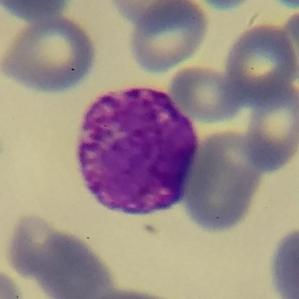Basophil: (66, 74, 206, 226)
RBC: (179, 130, 266, 234), (0, 12, 100, 94), (25, 226, 116, 299), (221, 22, 299, 103), (127, 0, 213, 73), (1, 210, 74, 292), (238, 76, 298, 174), (166, 62, 243, 124), (265, 224, 298, 299), (106, 0, 188, 28), (276, 6, 299, 91), (0, 0, 75, 21), (79, 286, 184, 299), (0, 266, 26, 299), (190, 0, 262, 11)
